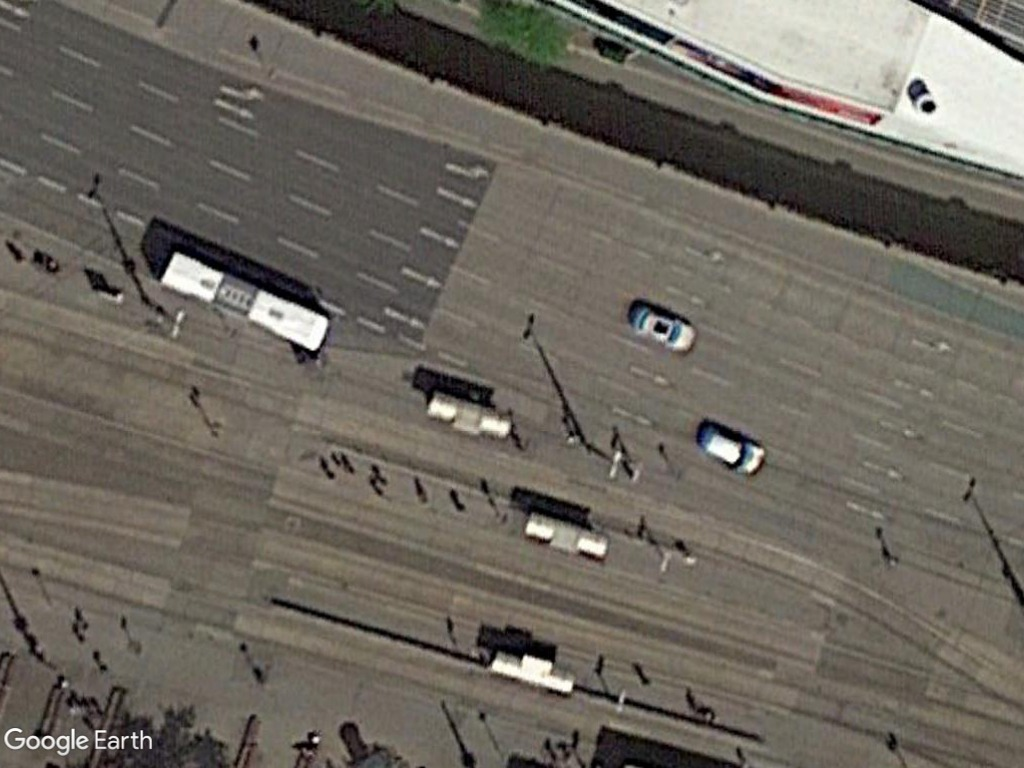bus: (155, 245, 333, 357)
car: (627, 300, 698, 356), (697, 424, 768, 479)
